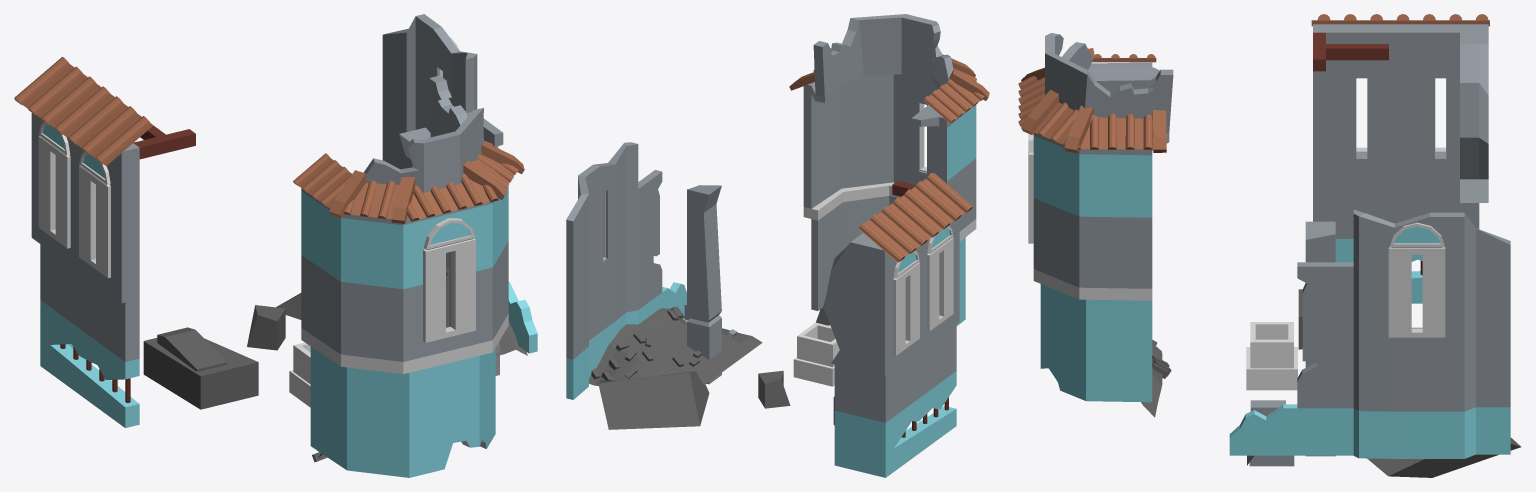
The model's file is Ruin_1.fbx.
3 views of the same model, side by side, from view 1: azimuth 30°, elevation 25°; view 2: azimuth 150°, elevation 25°; view 3: azimuth 270°, elevation 25° (orthographic). The views are drawn at different scales.
Visible parts, largest first — view 1: Ruins_1, Chest; view 2: Ruins_1, Chest; view 3: Ruins_1, Chest.
Boxes of the visible parts, x1=… form: Ruins_1: x1=14, y1=14, x2=537, y2=477; Chest: x1=289, y1=342, x2=310, y2=407; Ruins_1: x1=566, y1=14, x2=989, y2=477; Chest: x1=793, y1=322, x2=839, y2=386; Ruins_1: x1=1018, y1=14, x2=1520, y2=477; Chest: x1=1246, y1=322, x2=1297, y2=390.
Size of the model in its own units: 7.2 by 6.19 by 7.96.
